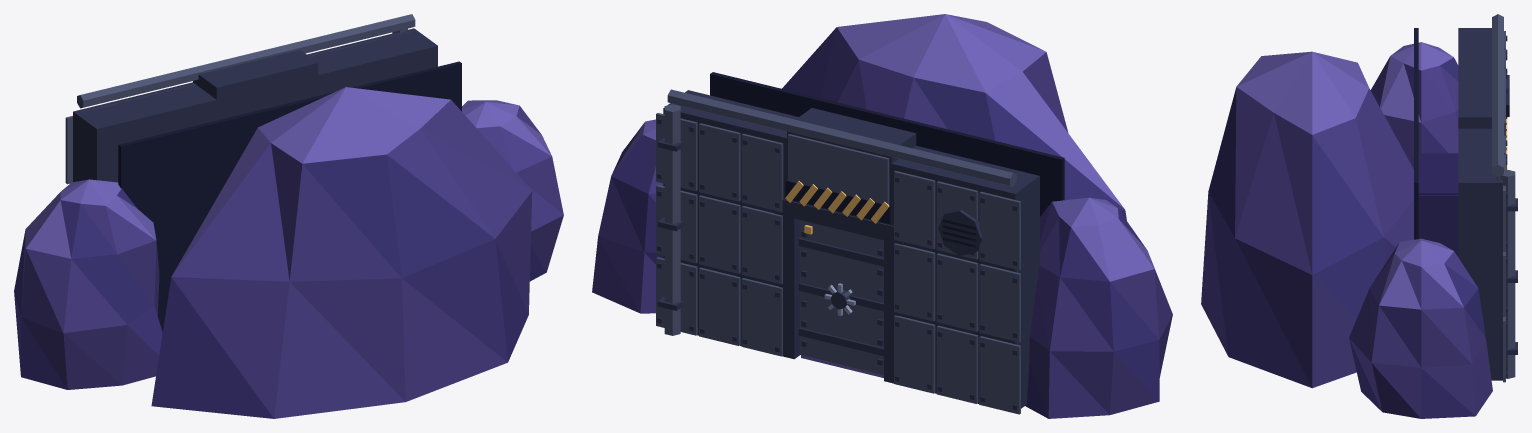
The model's file is Mine_Door_Iron.obj.
3 renders of one model, left to right at view 1: azimuth 30°, elevation 25°; view 2: azimuth 150°, elevation 25°; view 3: azimuth 270°, elevation 25°, orthographic. The views are drawn at different scales.
Visible parts, largest first — view 1: Mine_Door_Iron; view 2: Mine_Door_Iron; view 3: Mine_Door_Iron.
Part boxes in pixels (box(x1,y1,x2,y2)): Mine_Door_Iron: box(14, 14, 563, 418); Mine_Door_Iron: box(592, 14, 1172, 418); Mine_Door_Iron: box(1201, 14, 1517, 418).
Size of the model in its own units: 11.37 by 5.68 by 6.39.
